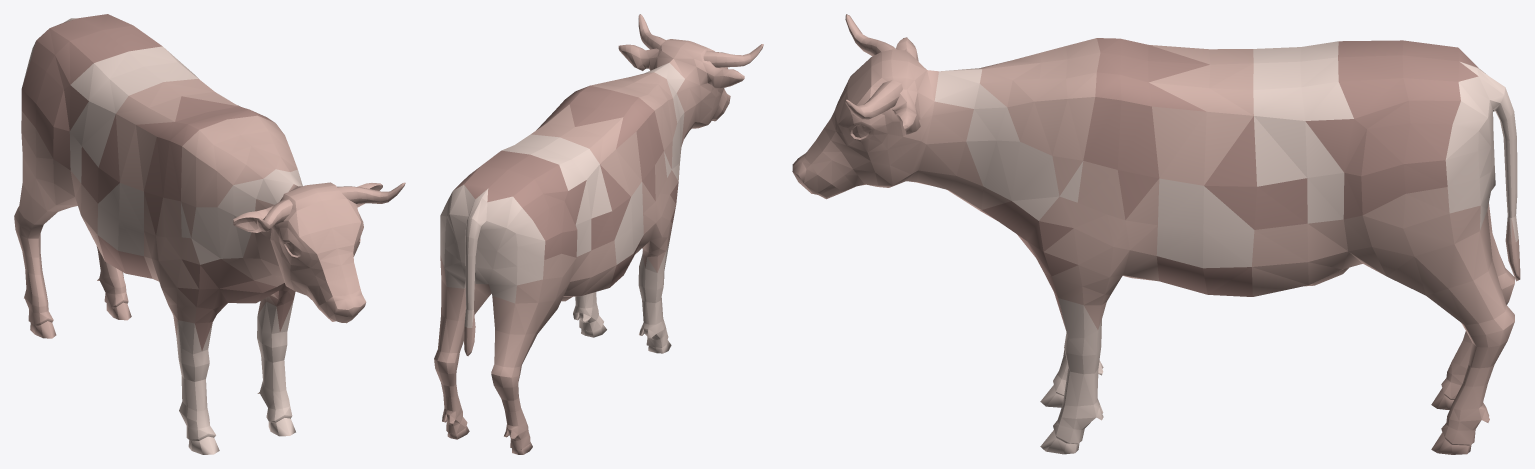
The model's file is boeuf.glb.
The picture shows the model from 3 angles, left to right: view 1: azimuth 30°, elevation 25°; view 2: azimuth 150°, elevation 25°; view 3: azimuth 270°, elevation 25°; orthographic projection. The views are drawn at different scales.
Visible parts, largest first — view 1: Cow; view 2: Cow; view 3: Cow.
Boxes of the visible parts, x1=… form: Cow: x1=14, y1=14, x2=405, y2=454; Cow: x1=434, y1=14, x2=763, y2=454; Cow: x1=792, y1=14, x2=1520, y2=454.
Bounding box in the file's own units: 2.31 × 4.59 × 8.07.
